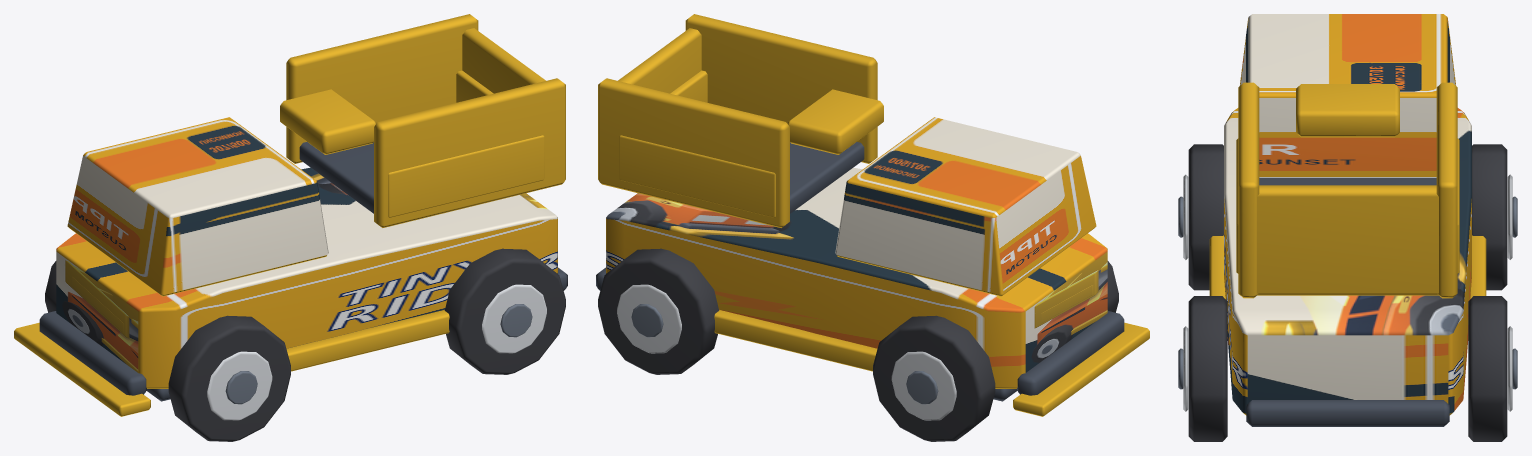
3 renders of one model, left to right at view 1: azimuth 30°, elevation 25°; view 2: azimuth 150°, elevation 25°; view 3: azimuth 270°, elevation 25°, orthographic. The views are drawn at different scales.
Parts seen in each view (by area): view 1: WY-01_connected_shell, WY-01_cabin, raised tipper wall, raised tipper wall.001, Tire, Tire.002, cargo side, custom equipment, custom side guard, custom chin, front bumper, raised tail gate (+6 smaller); view 2: WY-01_connected_shell, WY-01_cabin, raised tipper wall.001, raised tipper wall, Tire.001, Tire.003, cargo side.001, custom equipment, custom side guard.001, custom chin, front bumper, raised tail gate (+6 smaller); view 3: WY-01_connected_shell, WY-01_cabin, raised tail gate, Tire.002, Tire.003, custom equipment, rear bumper, Tire, Tire.001, raised tipper wall, raised tipper wall.001, cargo floor (+8 smaller).
Part boxes in pixels (box(x1,y1,x2,y2)): WY-01_connected_shell: box(56, 167, 557, 388); WY-01_cabin: box(67, 117, 328, 296); raised tipper wall: box(374, 78, 565, 227); raised tipper wall.001: box(286, 14, 478, 163); Tire: box(168, 315, 290, 441); Tire.002: box(444, 248, 565, 374); cargo side: box(388, 135, 544, 217); custom equipment: box(280, 89, 376, 154); custom side guard: box(286, 310, 449, 371); custom chin: box(14, 322, 150, 416); front bumper: box(39, 311, 146, 395); raised tail gate: box(462, 28, 545, 93); WY-01_connected_shell: box(606, 167, 1107, 388); WY-01_cabin: box(835, 117, 1096, 296); raised tipper wall.001: box(598, 78, 789, 227); raised tipper wall: box(685, 14, 877, 163); Tire.001: box(873, 315, 995, 441); Tire.003: box(598, 248, 719, 374); cargo side.001: box(619, 135, 775, 217); custom equipment: box(787, 89, 883, 154); custom side guard.001: box(714, 310, 877, 371); custom chin: box(1013, 322, 1149, 416); front bumper: box(1017, 311, 1124, 395); raised tail gate: box(618, 28, 701, 93); WY-01_connected_shell: box(1224, 108, 1471, 415); WY-01_cabin: box(1240, 14, 1455, 177); raised tail gate: box(1257, 185, 1438, 295); Tire.002: box(1188, 296, 1227, 441); Tire.003: box(1468, 296, 1507, 441); custom equipment: box(1296, 84, 1399, 137); rear bumper: box(1246, 400, 1449, 426); Tire: box(1188, 144, 1223, 290); Tire.001: box(1472, 144, 1507, 290); raised tipper wall: box(1238, 82, 1259, 298); raised tipper wall.001: box(1436, 82, 1457, 298); cargo floor: box(1259, 178, 1436, 185).
Bounding box in the file's own units: 401 × 216 × 227.
